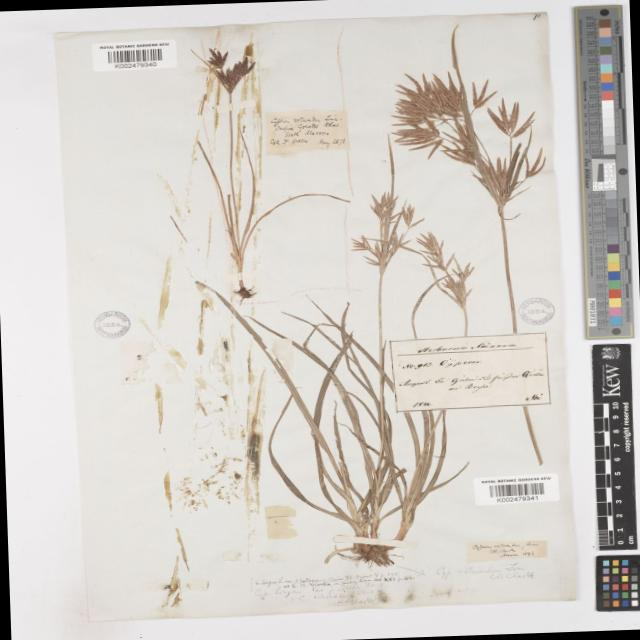cyperus: (379, 63, 551, 206), (344, 190, 484, 308), (190, 42, 263, 97)
